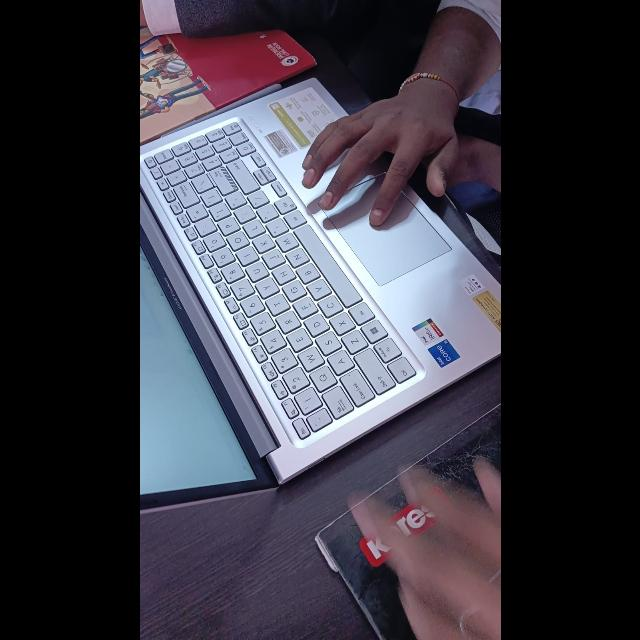laptop: (140, 112, 500, 496)
